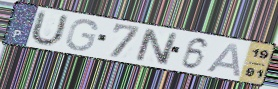6: (181, 36, 209, 70)
7: (109, 21, 142, 60)
A: (204, 42, 242, 79)
G: (64, 18, 99, 52)
N: (134, 27, 179, 67)
U: (27, 9, 70, 48)
